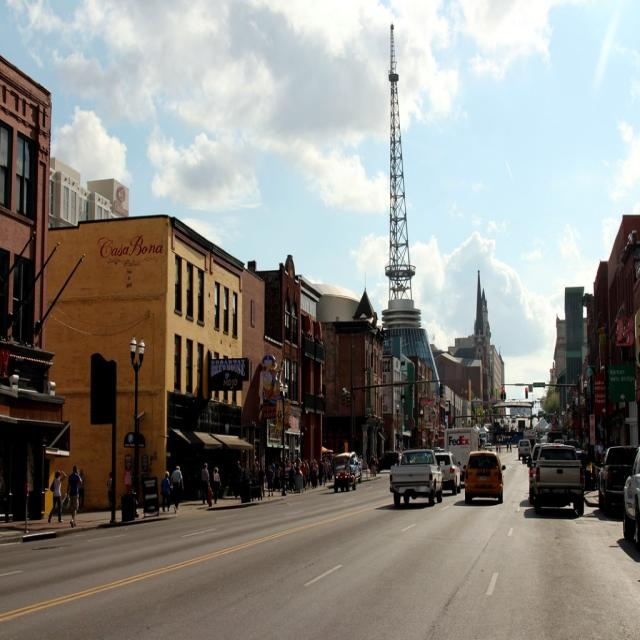car: (461, 455, 504, 505)
